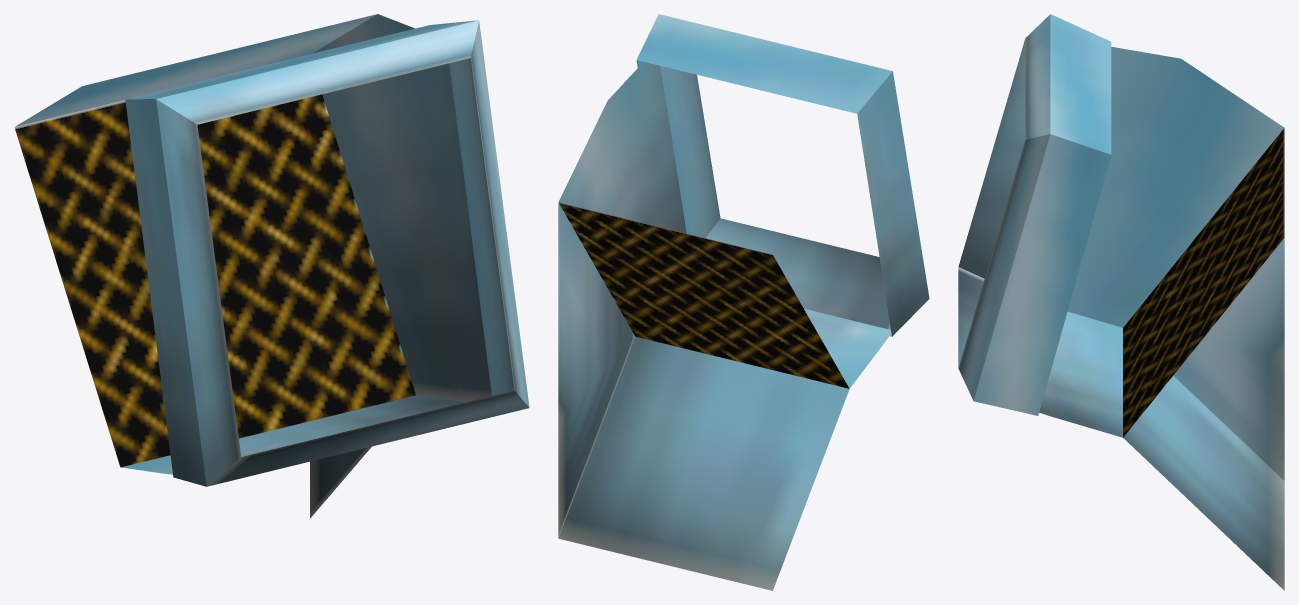
File: Belüftungsanlage_Kasten_1511.glb
The picture shows the model from 3 angles, left to right: view 1: azimuth 30°, elevation 25°; view 2: azimuth 150°, elevation 25°; view 3: azimuth 270°, elevation 25°; orthographic projection. The views are drawn at different scales.
Parts seen in each view (by area): view 1: pPlaneShape2, pTorusShape1, pCylinderShape1; view 2: pCylinderShape1, pTorusShape1, pPlaneShape2; view 3: pCylinderShape1, pTorusShape1, pPlaneShape2.
Boxes of the visible parts, bbox=[...] form: pPlaneShape2: bbox=[14, 94, 415, 467]; pTorusShape1: bbox=[125, 20, 529, 486]; pCylinderShape1: bbox=[15, 14, 491, 518]; pCylinderShape1: bbox=[558, 62, 891, 590]; pTorusShape1: bbox=[636, 14, 929, 336]; pPlaneShape2: bbox=[558, 202, 849, 388]; pCylinderShape1: bbox=[1039, 46, 1284, 590]; pTorusShape1: bbox=[958, 14, 1111, 415]; pPlaneShape2: bbox=[1123, 128, 1284, 437].
Size of the model in its own units: 0.1937 by 0.348 by 0.2223.
3 materials, 3 textured.
